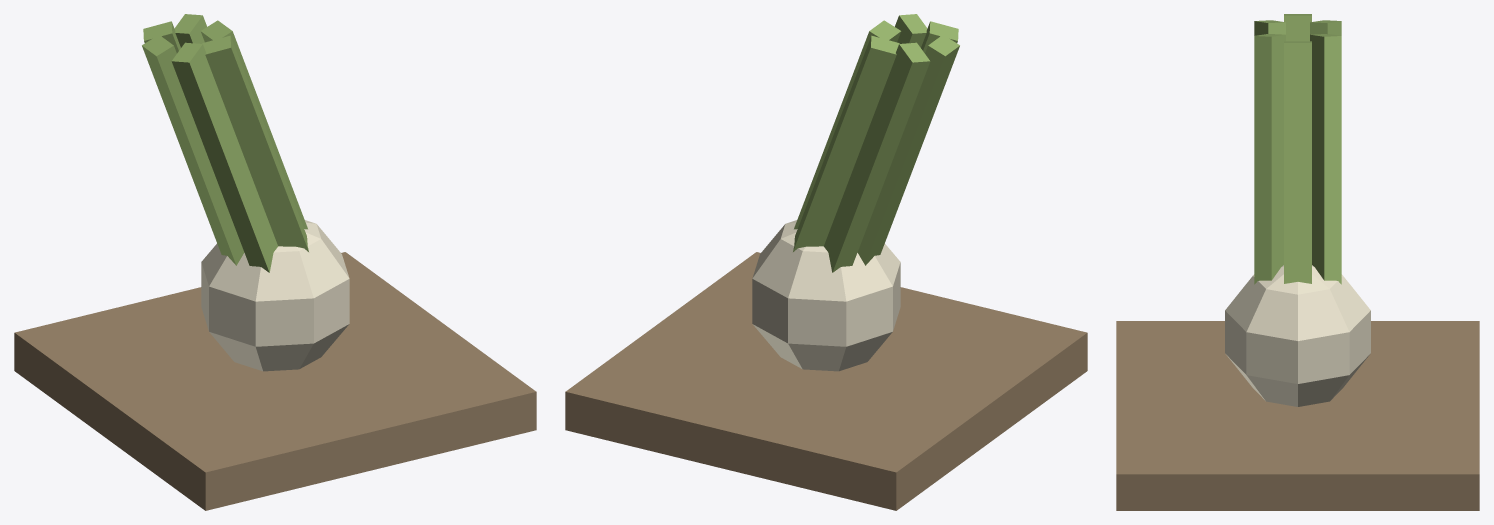
Rendered from cozy-farm-and-homestead-onion-mature-0484e81f__19391.glb.
3 renders of one model, left to right at view 1: azimuth 30°, elevation 25°; view 2: azimuth 150°, elevation 25°; view 3: azimuth 270°, elevation 25°, orthographic. The views are drawn at different scales.
Parts seen in each view (by area): view 1: onion-mature; view 2: onion-mature; view 3: onion-mature.
Part boxes in pixels (x1,y1,x2,y2): onion-mature: (14, 14, 536, 510); onion-mature: (565, 14, 1087, 510); onion-mature: (1116, 14, 1479, 510).
Bounding box in the file's own units: 0.45 × 0.5061 × 0.45.
